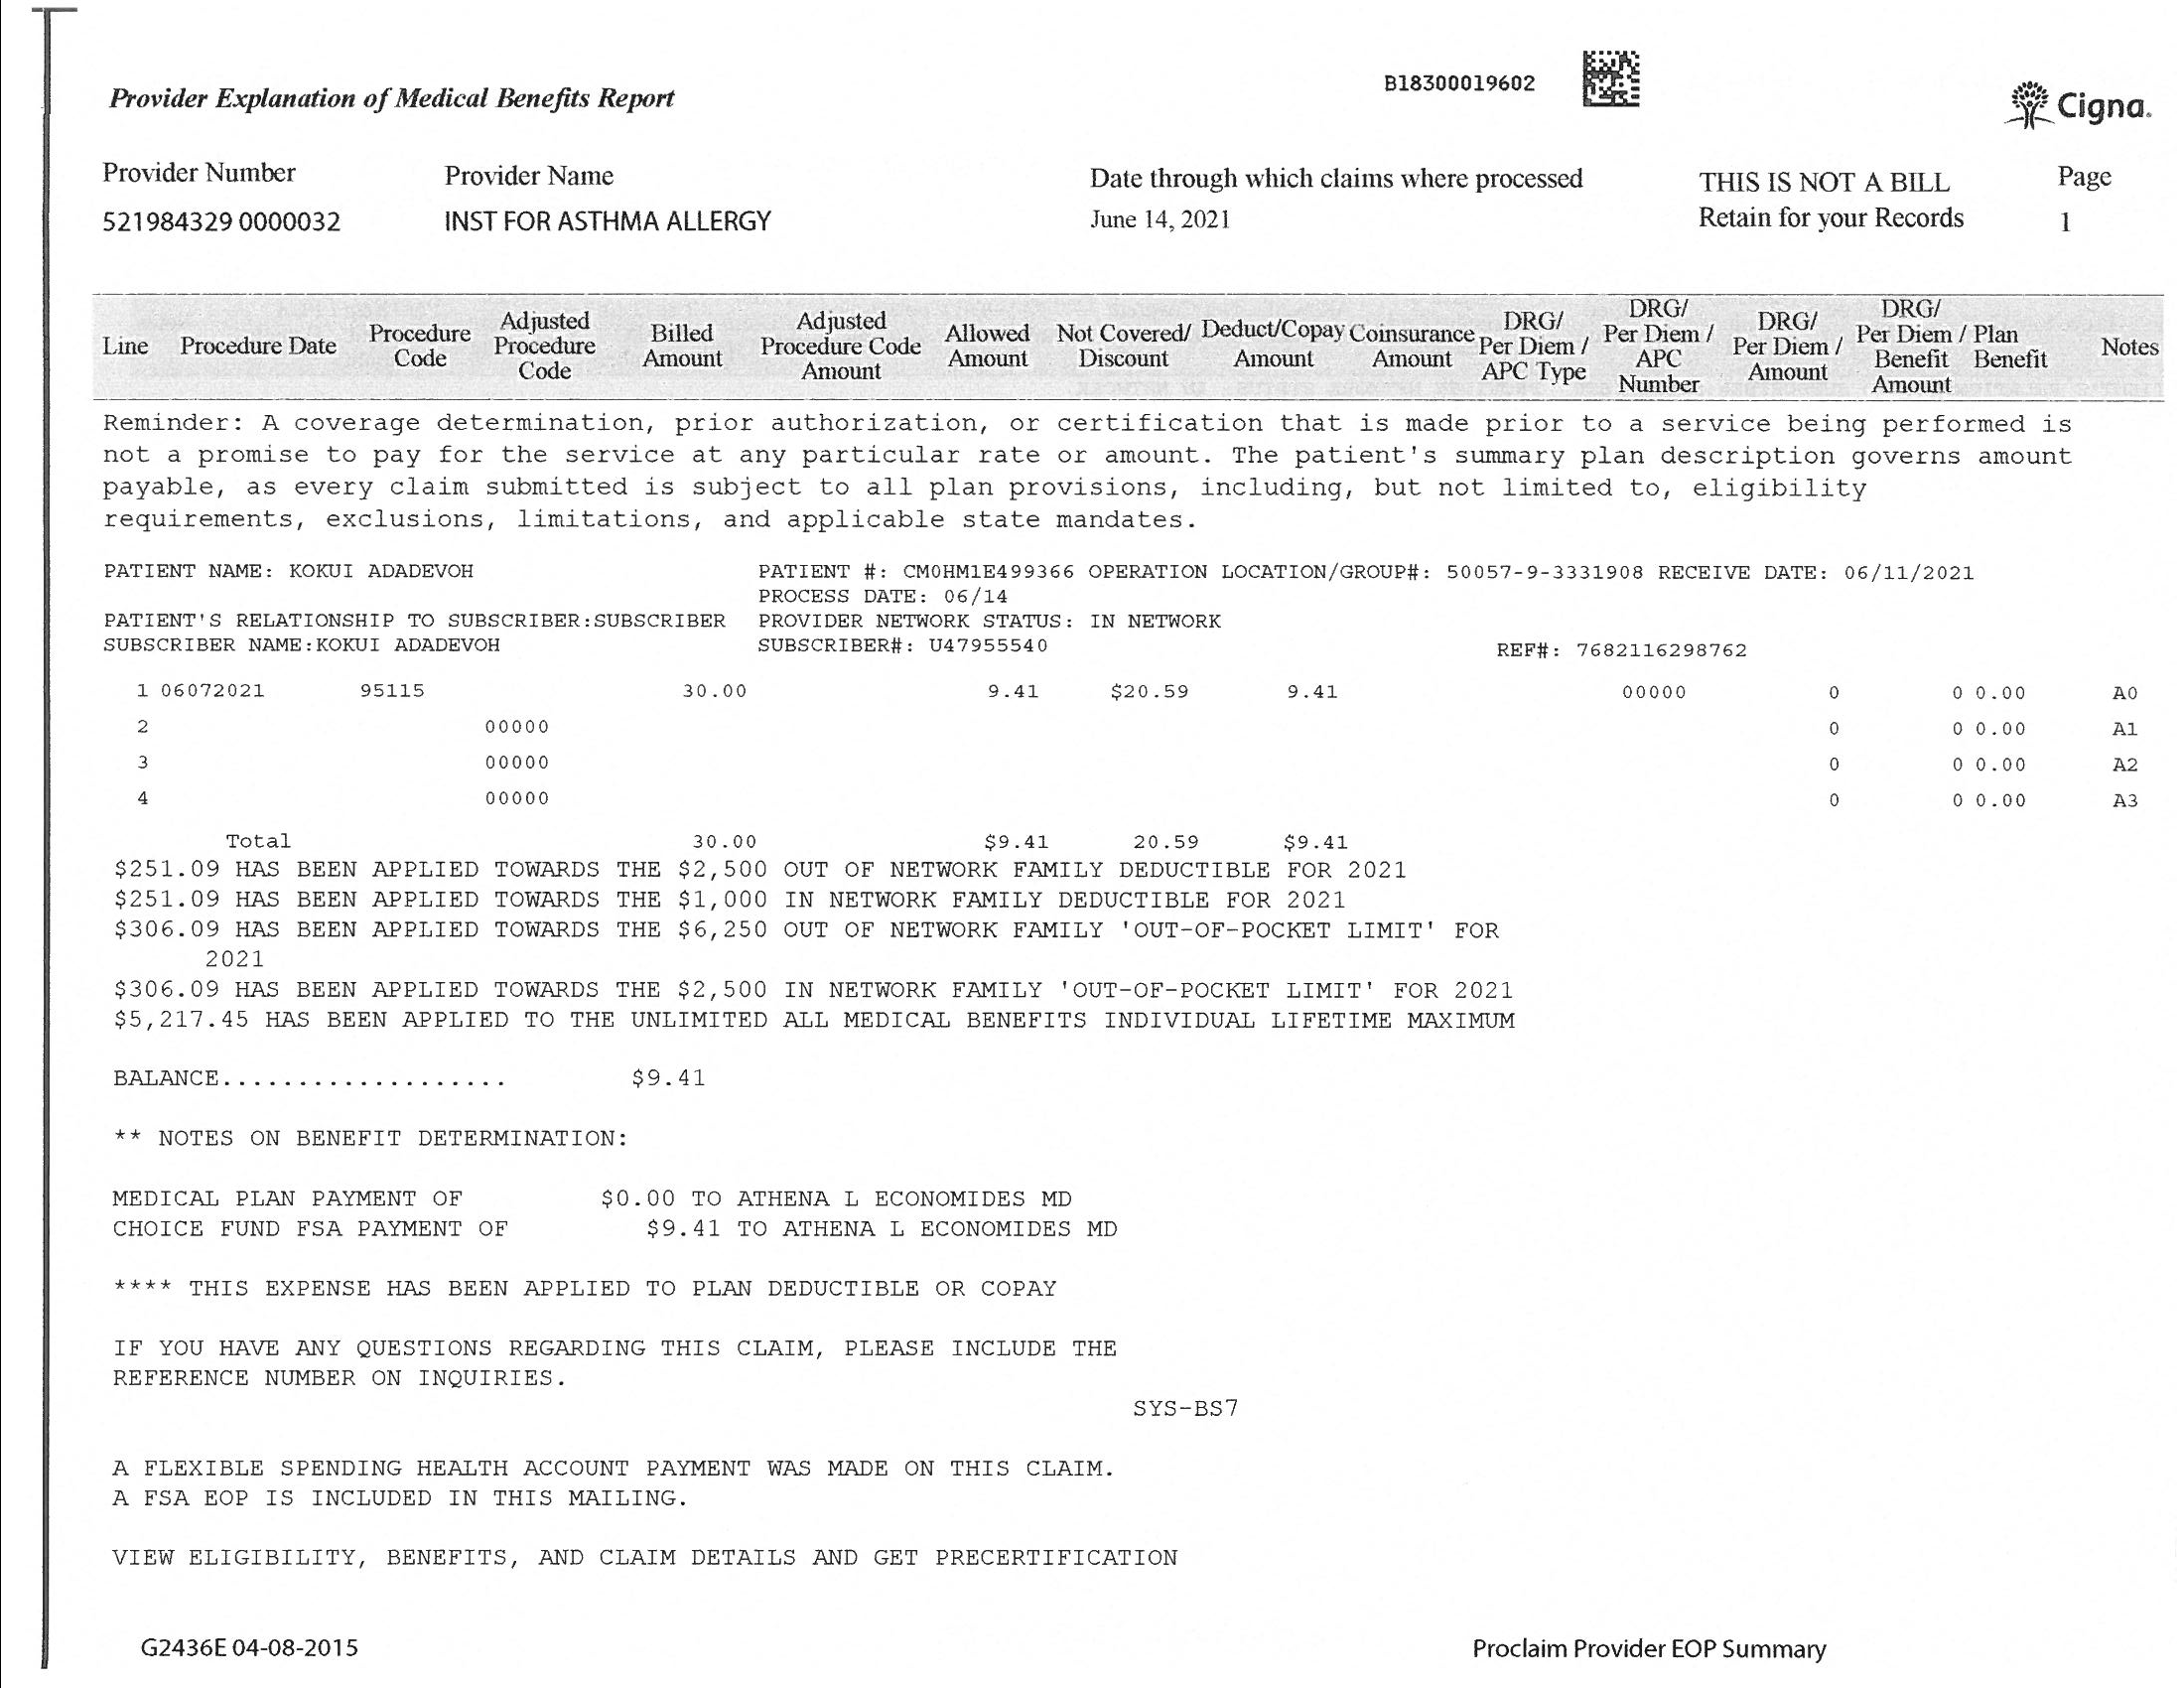data: (76, 144, 805, 254)
